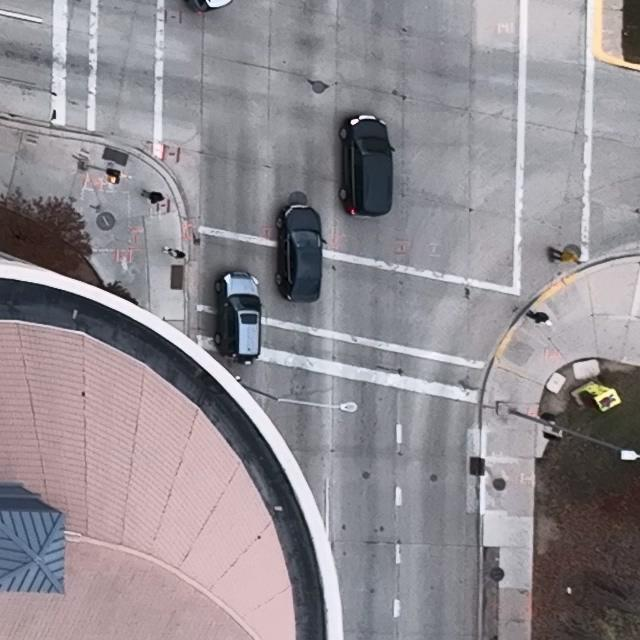car: (338, 114, 395, 218), (275, 204, 328, 302), (216, 271, 263, 365)
